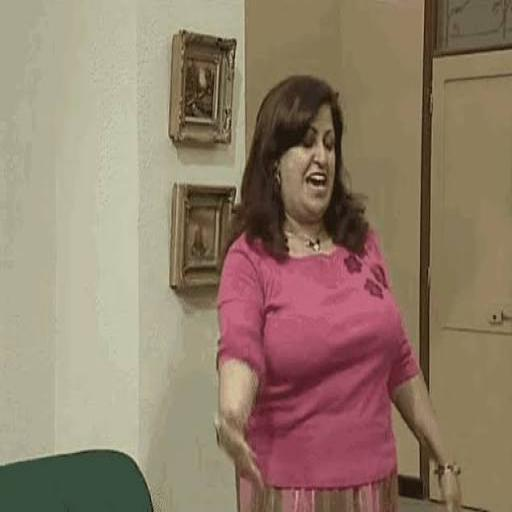jannet: (275, 104, 339, 230)
